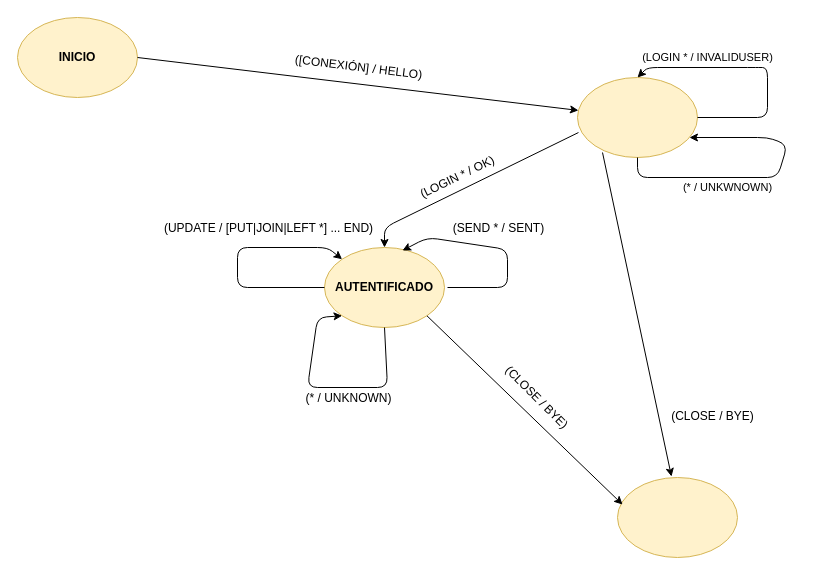
This 813x575 diagram has some shape labels left out. The box of each missing label's shape, as (x1, y1, x2, y2) in pixels:
CONECTADO: (576, 76, 698, 158)
FIN: (616, 476, 738, 558)
